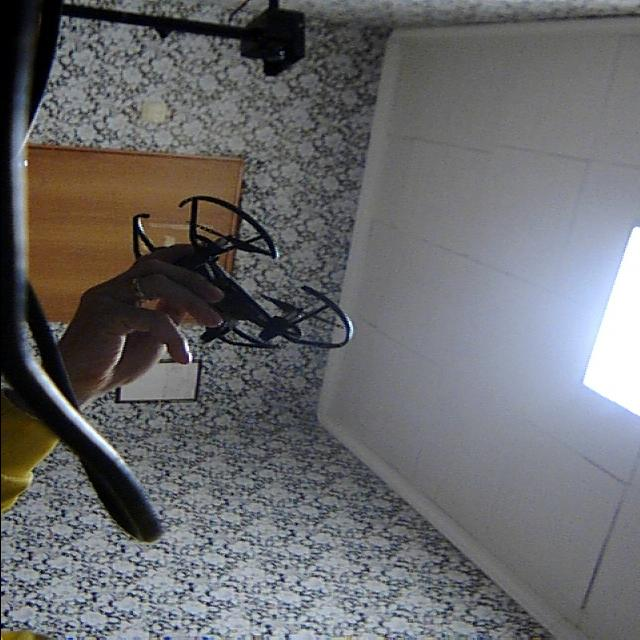drone: (114, 173, 360, 370)
